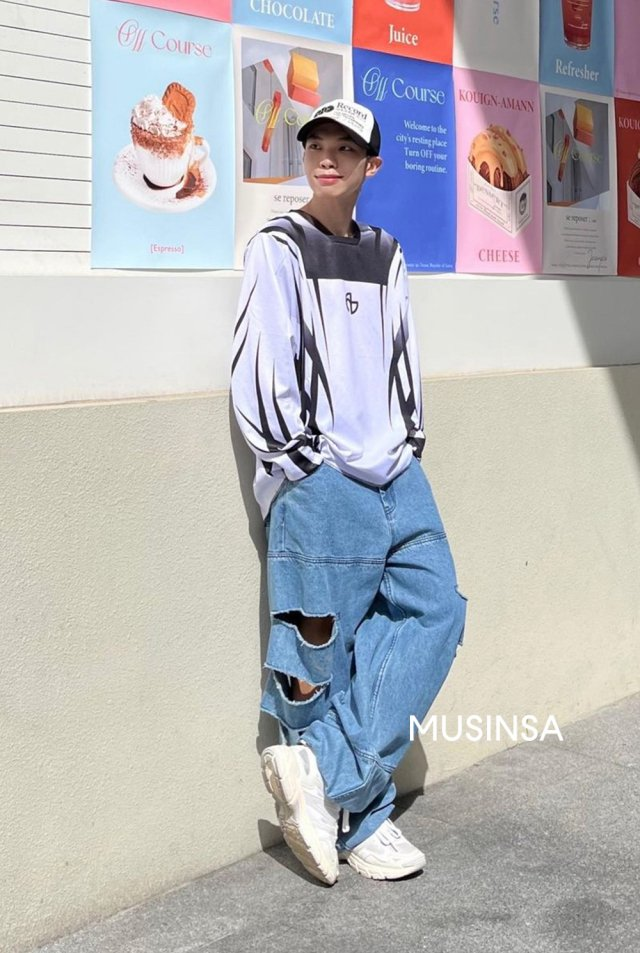Cap: (296, 90, 384, 153)
Jeans: (257, 459, 468, 845)
Shoes: (258, 743, 432, 893)
Top: (234, 201, 432, 515)
